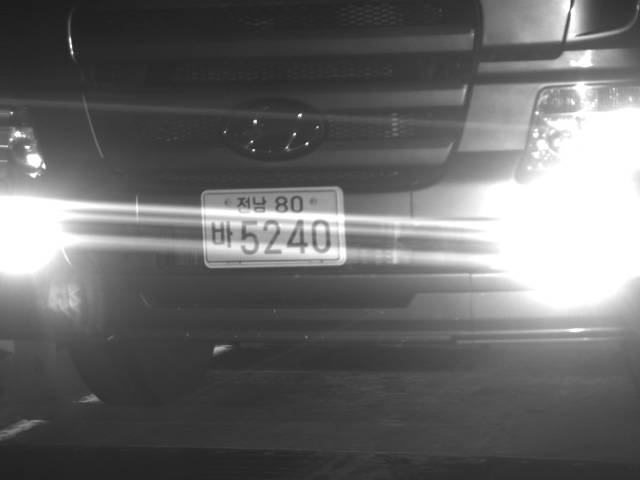car: (1, 1, 640, 408)
plate: (198, 185, 349, 271)
